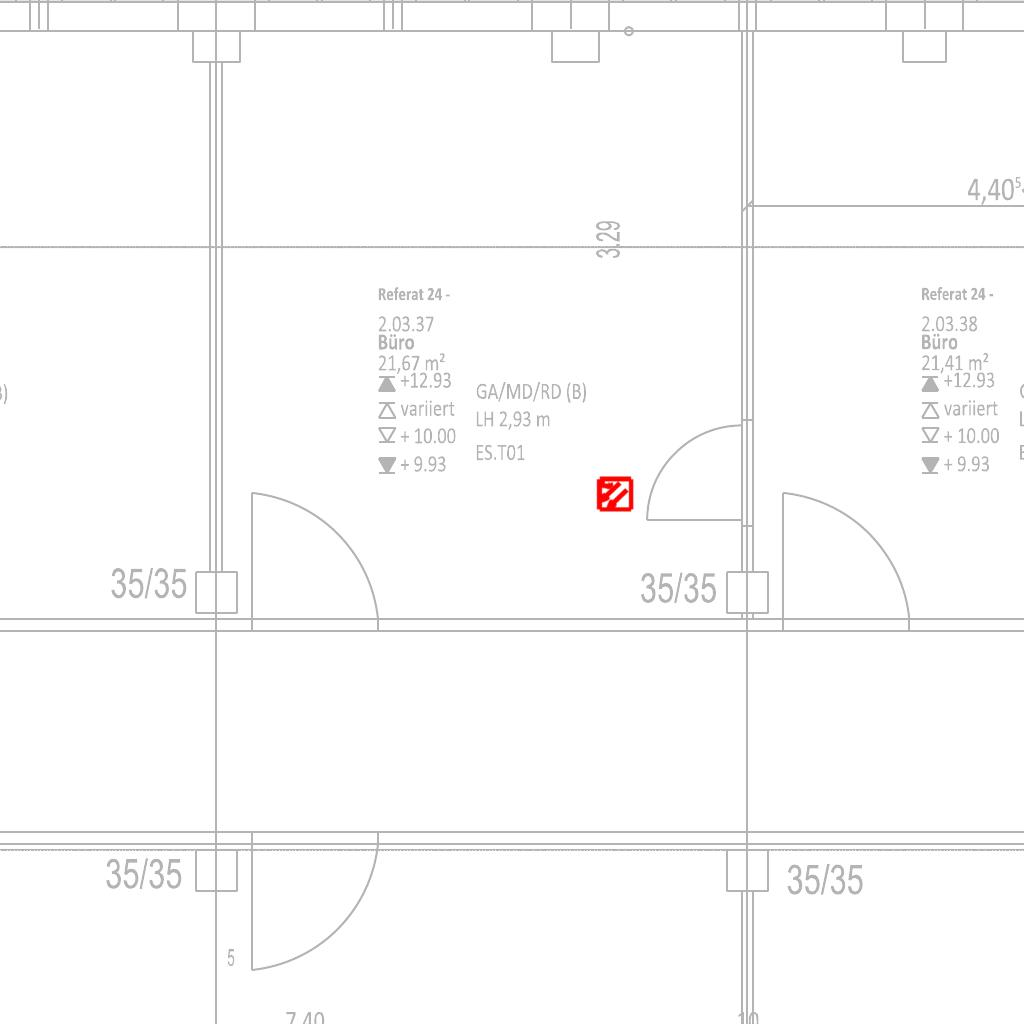OT_Multisensormelder_(Kombination_RMO_WMD): (586, 466, 642, 522)
